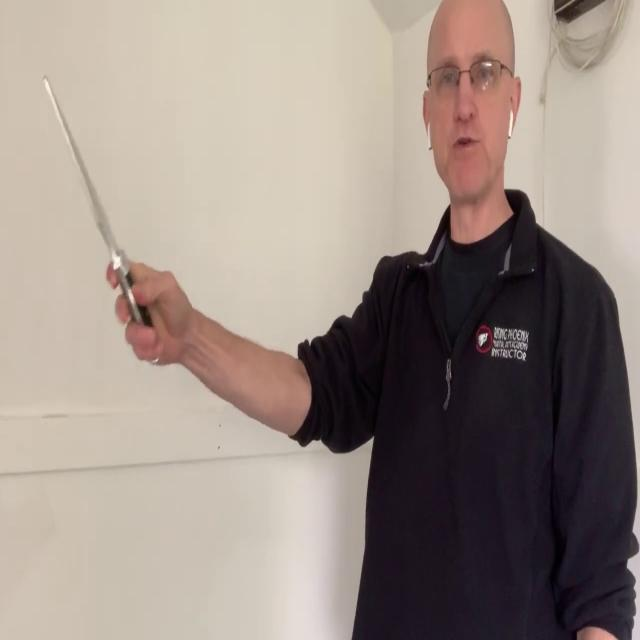Knife_Handle: (42, 76, 193, 368)
